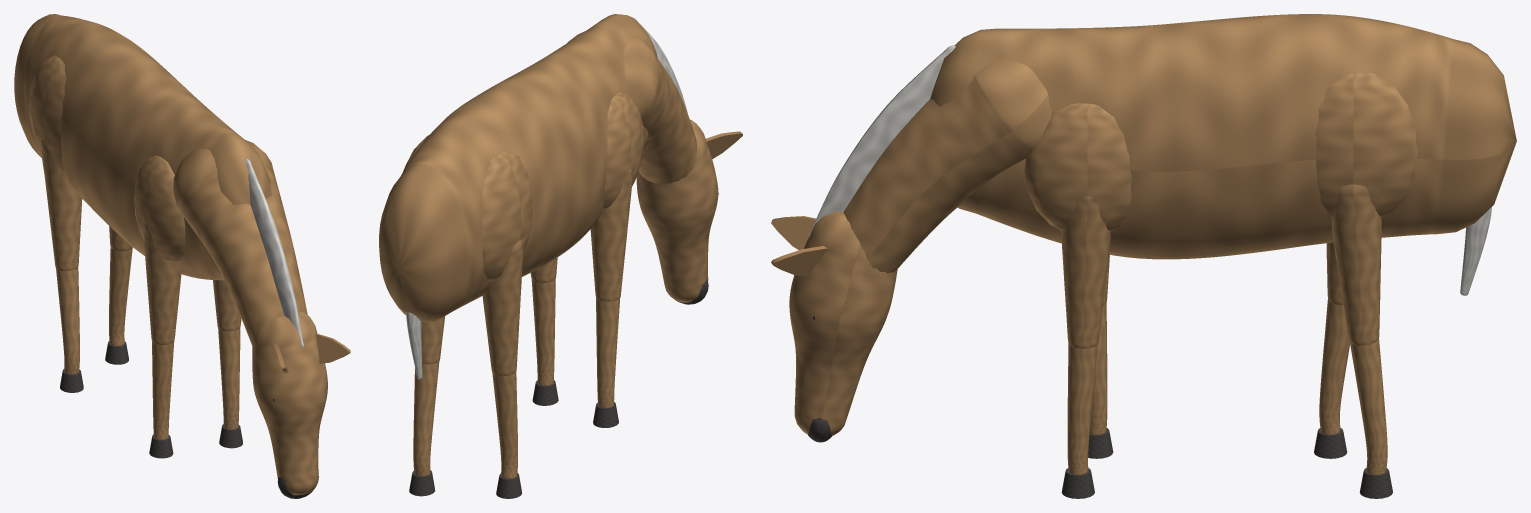
File: farm-and-working-animals-hd-horse-grazing-chestnut-25a55e0b__29179.glb
The picture shows the model from 3 angles, left to right: view 1: azimuth 30°, elevation 25°; view 2: azimuth 150°, elevation 25°; view 3: azimuth 270°, elevation 25°; orthographic projection. The views are drawn at different scales.
Parts seen in each view (by area): view 1: horse-grazing-chestnut; view 2: horse-grazing-chestnut; view 3: horse-grazing-chestnut.
Part boxes in pixels (x1,y1,x2,y2): horse-grazing-chestnut: [14, 14, 350, 498]; horse-grazing-chestnut: [379, 14, 742, 498]; horse-grazing-chestnut: [771, 14, 1516, 498].
Size of the model in its own units: 0.5075 by 1.64 by 2.44.
3 materials, 3 textured.
